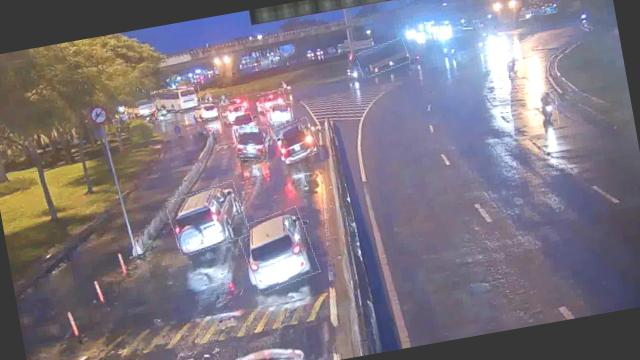Bike: (538, 90, 560, 127), (505, 54, 525, 79)
Bus: (154, 84, 202, 115), (268, 100, 294, 124)
Car: (238, 206, 320, 292), (166, 182, 250, 254), (274, 118, 320, 164), (233, 122, 272, 164), (220, 99, 250, 124), (256, 88, 288, 110), (194, 100, 222, 122), (268, 100, 293, 124)
Truck: (355, 39, 410, 76)
